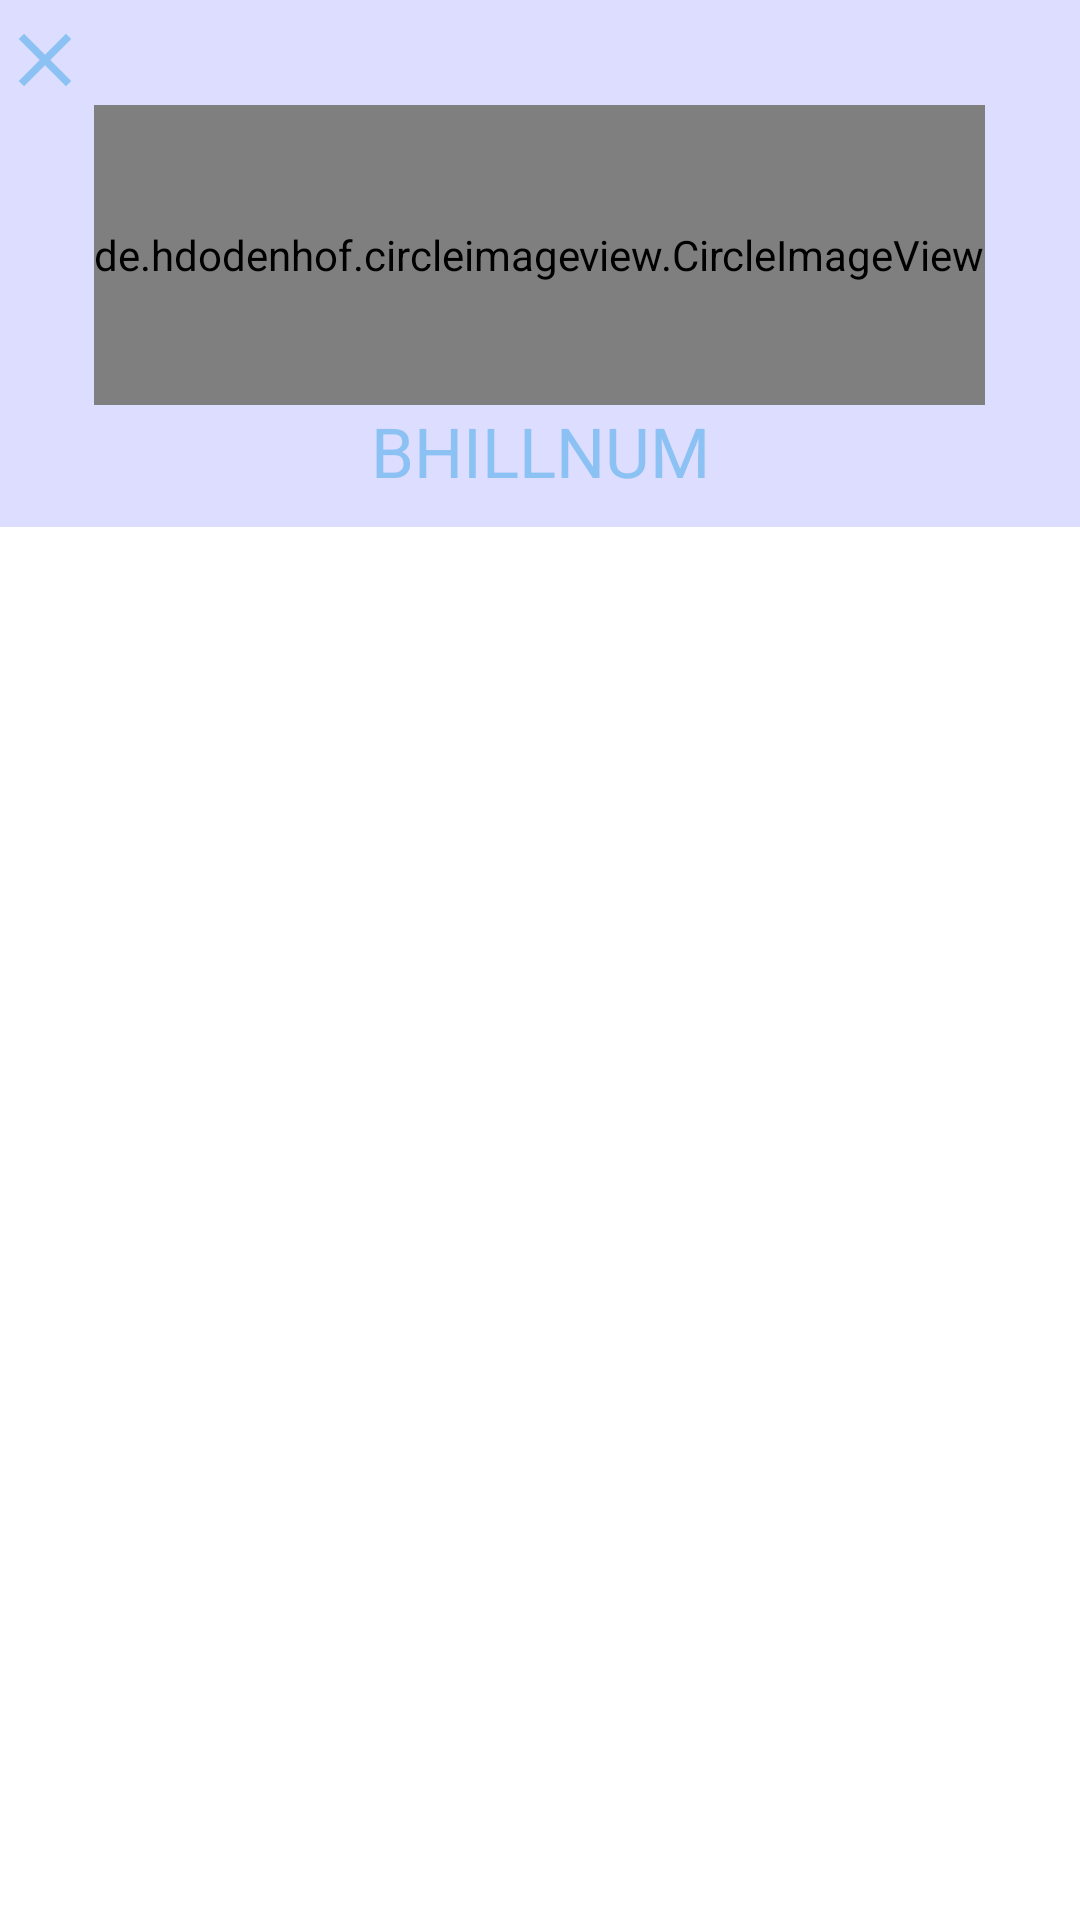

Where icons sit on this 1080px×1920px app screen, as (x1, y1, x2, y2):
close: (19, 34, 71, 86)
